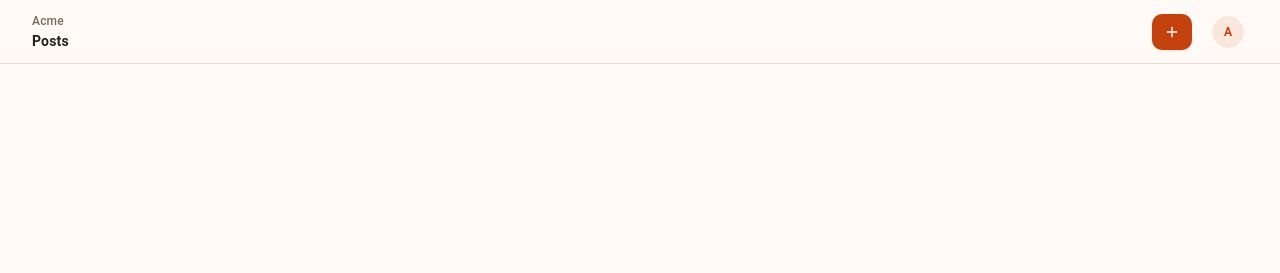
Test: Actual Topbar › respects editor permissions in account links and create action
Click the button named "Open account menu": (1228, 32) [1208,12,1248,52]
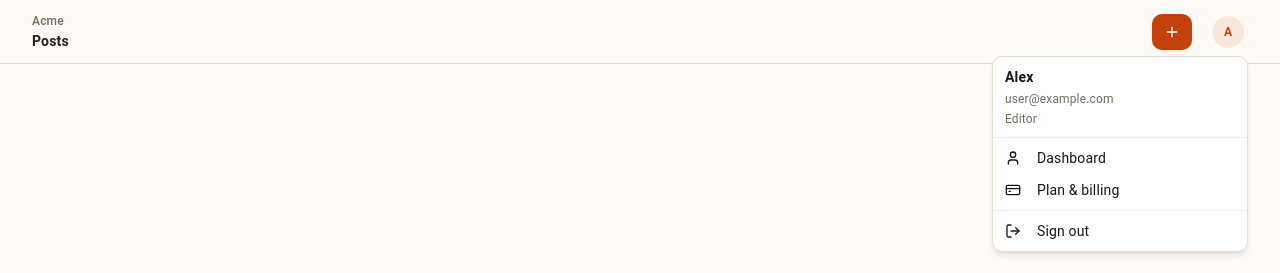
Result: the text "Alex" is shown at [1005,69,1033,85]
Result: the text "user@example.com" is shown at [1005,92,1114,106]
Result: the text "Editor" is shown at [1005,112,1037,126]
